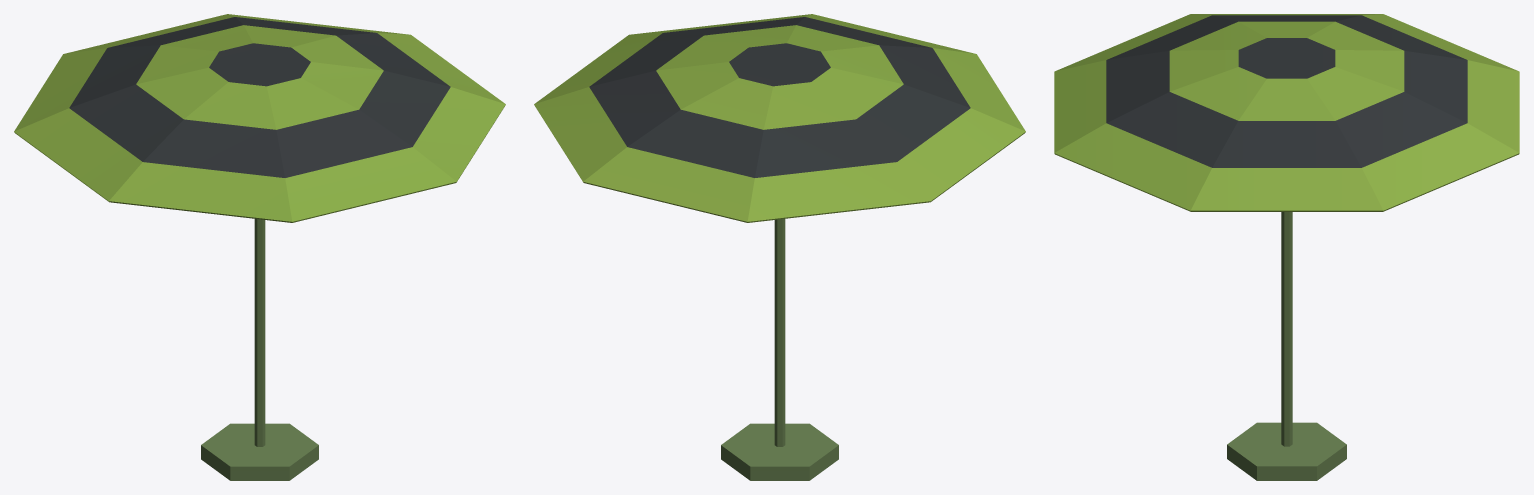
The model's file is Umbrella_04.fbx.
3 views of the same model, side by side, from view 1: azimuth 30°, elevation 25°; view 2: azimuth 150°, elevation 25°; view 3: azimuth 270°, elevation 25° (orthographic).
Parts seen in each view (by area): view 1: Umbrella_04; view 2: Umbrella_04; view 3: Umbrella_04.
Boxes of the visible parts, box(x1,y1,x2,y2) form: Umbrella_04: box(14, 14, 505, 480); Umbrella_04: box(534, 14, 1025, 480); Umbrella_04: box(1054, 14, 1519, 480).
Bounding box in the file's own units: 2.77 × 2.63 × 2.77.
